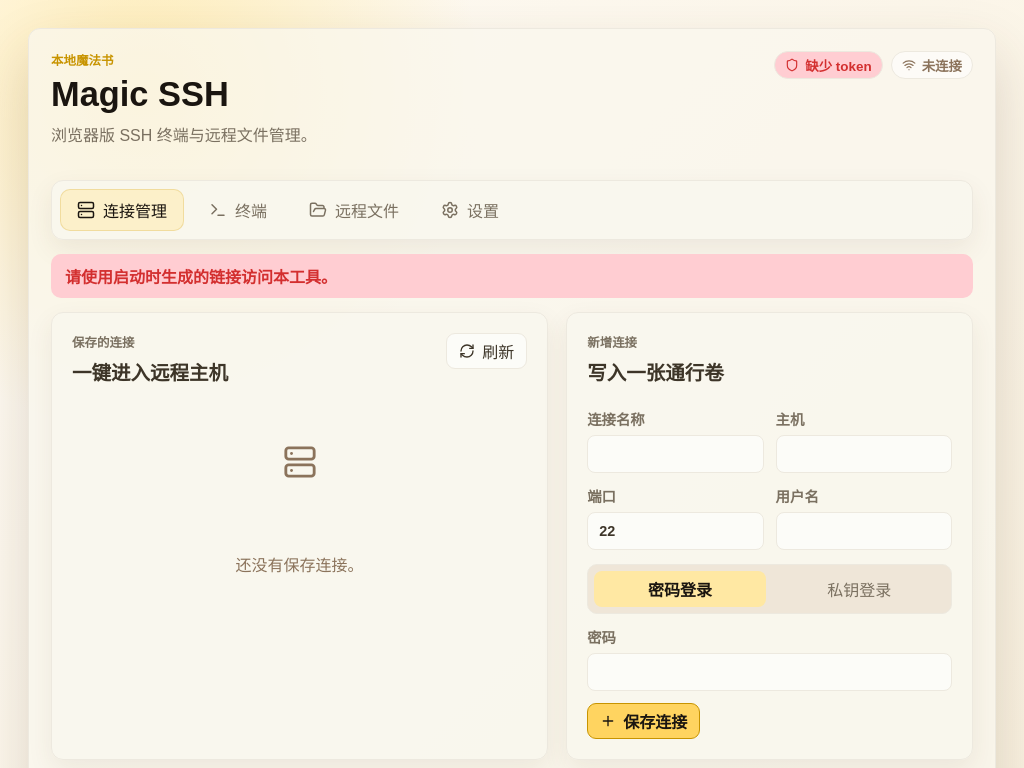
Magic SSH app › uses a parchment Rocom terminal instead of a dark terminal
Click the tab "终端".
click(238, 210)  # box x1=192 y1=189 x2=284 y2=231
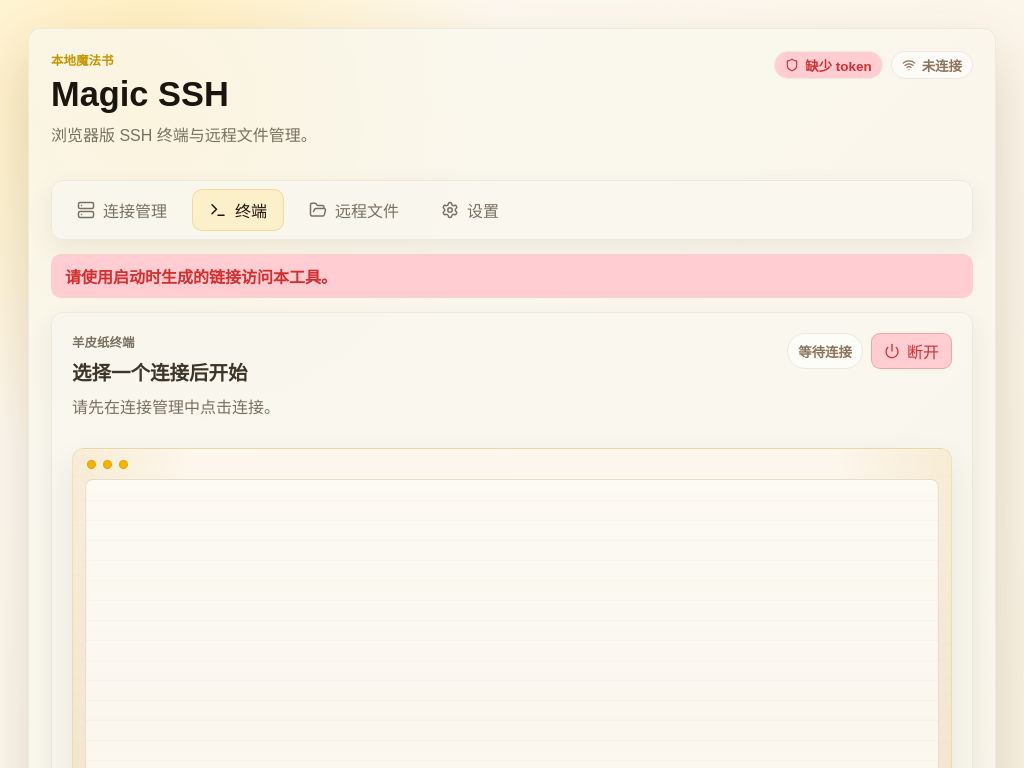
expect the text "羊皮纸终端" is shown: met, box x1=72 y1=336 x2=134 y2=350
